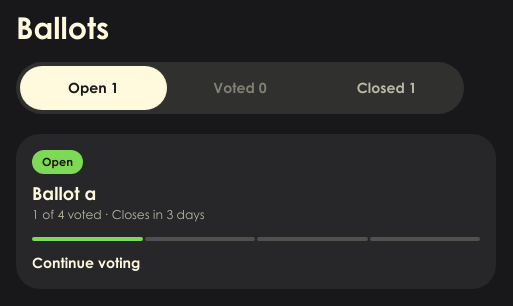
Test: BallotsPage › renders cards with links, subtitle and plural copy
Expected: the text "1 of 4 voted · Closes in 3 days" is shown, x1=32 y1=210 x2=204 y2=222
Expected: the text "Continue voting" is shown, x1=32 y1=254 x2=140 y2=271
Click the tab "Closed 1" at coordinates (387, 88), box x1=313 y1=66 x2=460 y2=110
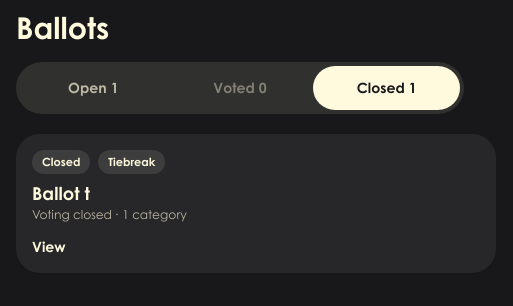
Expected: the text "Tiebreak" is shown, x1=98 y1=150 x2=165 y2=174
Expected: the text "Voting closed · 1 category" is shown, x1=32 y1=210 x2=187 y2=222
